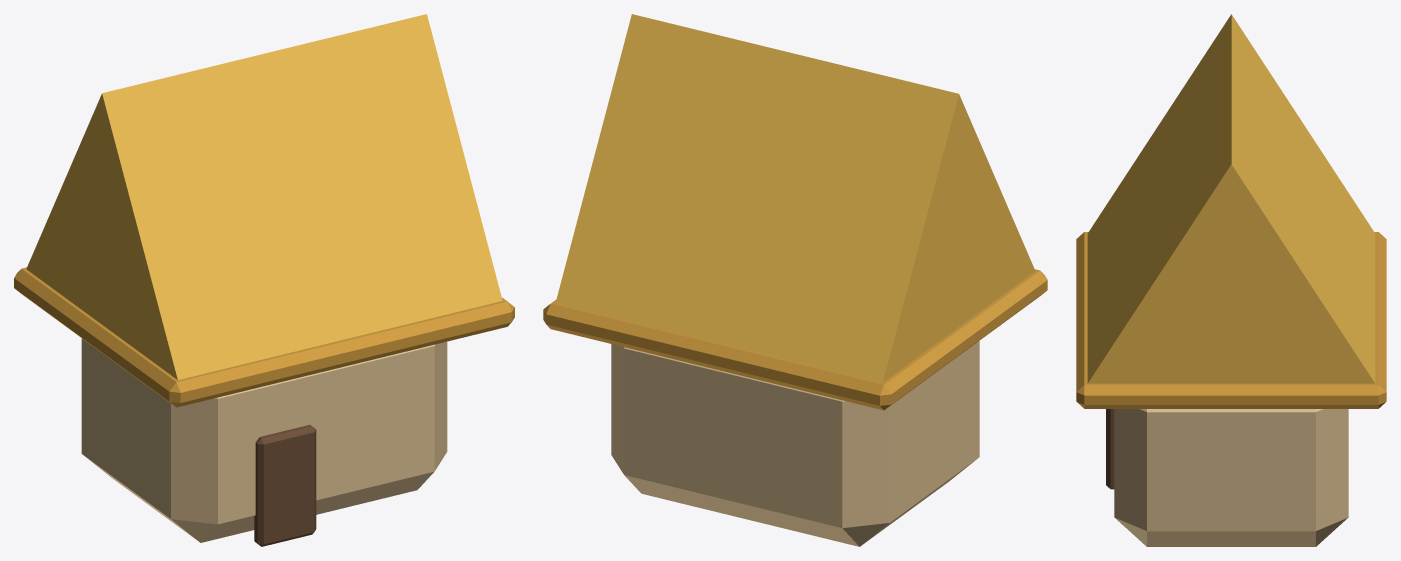
File: ns-house-1b.glb
3 views of the same model, side by side, from view 1: azimuth 30°, elevation 25°; view 2: azimuth 150°, elevation 25°; view 3: azimuth 270°, elevation 25° (orthographic). The views are drawn at different scales.
Parts seen in each view (by area): view 1: Cube; view 2: Cube; view 3: Cube.
Part boxes in pixels (bbox=[...]): Cube: bbox=[14, 14, 514, 546]; Cube: bbox=[543, 14, 1047, 546]; Cube: bbox=[1076, 14, 1386, 546].
Size of the model in its own units: 0.5 by 0.595 by 0.41.
